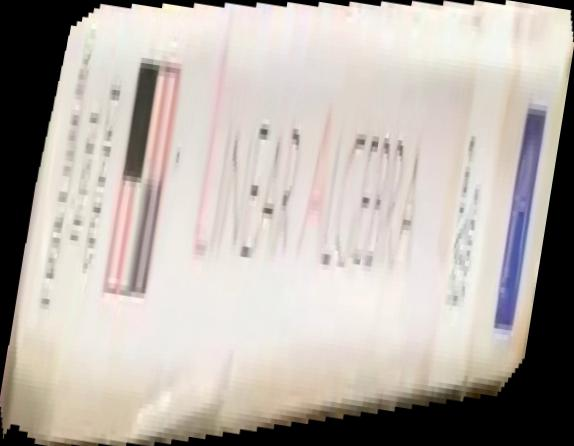flat: (1, 1, 574, 446)
